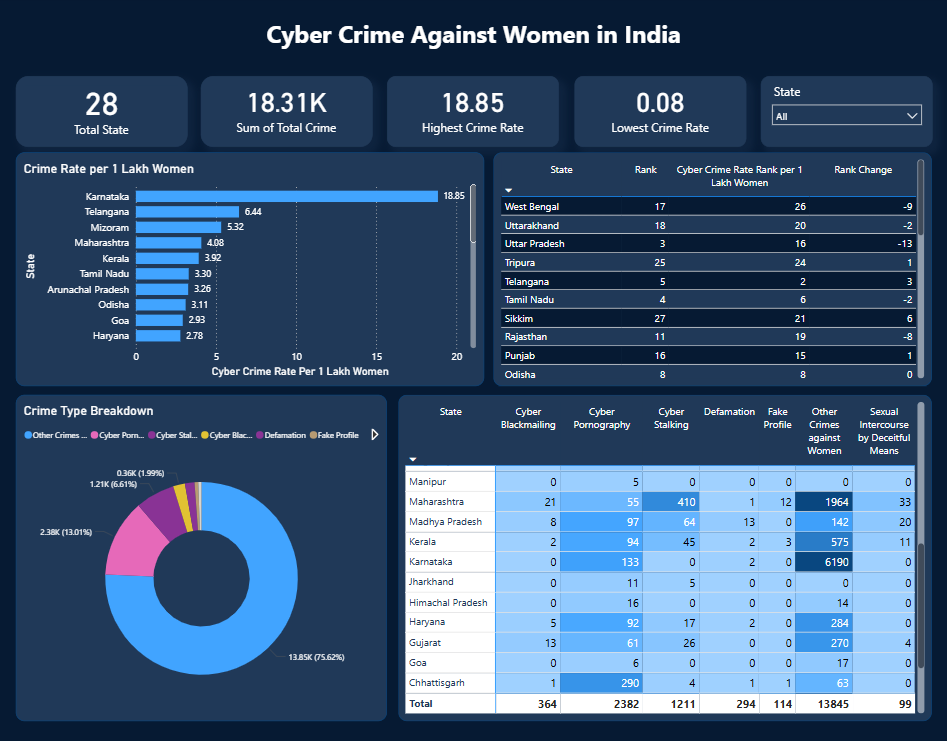

This screenshot's page, from the dashboard's own definition file:
{"tool":"powerbi","page":{"name":"Page 1","canvas":[1280,720],"ordinal":0},"visuals":[{"type":"cardVisual","fields":{"Data":["Count(Crime Rate Per Lakh.State)"]},"box":[25.3,117,202.7,125.5],"z":0},{"type":"cardVisual","fields":{"Data":["Sum(Rank and Contribution.Total Crime)"]},"box":[259.4,117,214.7,125.5],"z":1000},{"type":"cardVisual","fields":{"Data":["Max(Crime Rate Per Lakh.Cyber Crime Rate per 1 Lakh Women)"]},"box":[506.7,117,201.5,125.5],"z":2000},{"type":"cardVisual","fields":{"Data":["Min(Crime Rate Per Lakh.Cyber Crime Rate per 1 Lakh Women)"]},"box":[743.2,117,202.7,125.5],"z":3000},{"type":"textbox","box":[296.7,21.7,686.7,66.7],"z":4000},{"type":"barChart","fields":{"Category":["Raw Data.State"],"Y":["Sum(Raw Data.Total Crimes)"]},"box":[25.7,255.7,682.9,422.9],"z":5000},{"type":"donutChart","title":"Crime Type Breakdown","fields":{"Category":["Raw Data.Attribute"],"Y":["Sum(Raw Data.Total Crimes)"]},"box":[743.2,255.8,515.2,423.5],"z":6000},{"type":"slicer","fields":{"Values":["Rank and Contribution.State"]},"box":[979.6,117,278.7,125.5],"z":8000}]}

Visuals, with their boxes on the page's 1280x720 design canvas (x1, y1, x2, y2). These are canvas units, not pixel positions in the 947x741 screenshot, which may show the page scaled, cropped or inside an application window:
cardVisual - Count(Crime Rate Per Lakh.State): (25, 117, 228, 242)
cardVisual - Sum(Rank and Contribution.Total Crime): (259, 117, 474, 242)
cardVisual - Max(Crime Rate Per Lakh.Cyber Crime Rate per 1 Lakh Women): (507, 117, 708, 242)
cardVisual - Min(Crime Rate Per Lakh.Cyber Crime Rate per 1 Lakh Women): (743, 117, 946, 242)
textbox: (297, 22, 983, 88)
barChart - Raw Data.State x Sum(Raw Data.Total Crimes): (26, 256, 709, 679)
"Crime Type Breakdown" donutChart: (743, 256, 1258, 679)
slicer - Rank and Contribution.State: (980, 117, 1258, 242)
